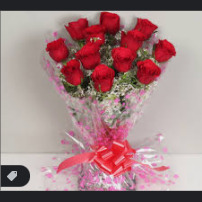RedRose: (76, 40, 102, 67), (133, 60, 159, 87), (151, 37, 176, 65), (115, 25, 142, 50), (113, 44, 136, 72), (62, 61, 86, 87), (96, 10, 119, 34), (93, 66, 115, 91), (83, 23, 109, 44), (65, 16, 88, 39), (133, 18, 157, 40), (43, 40, 66, 60)
